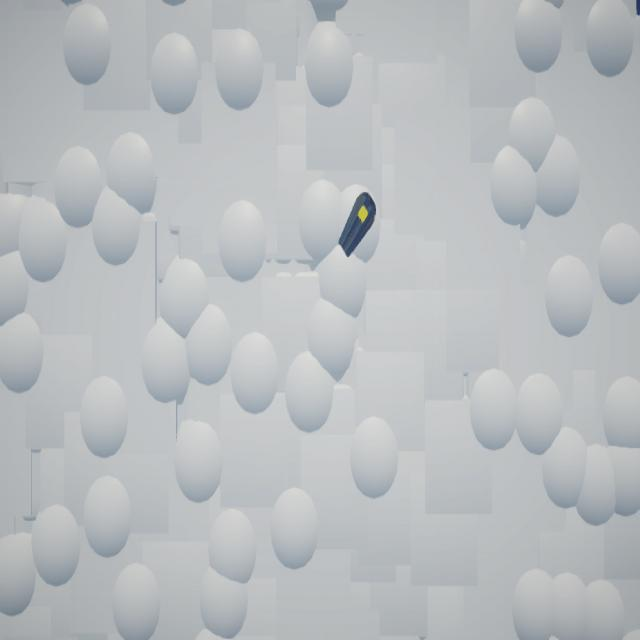handle_folk: (339, 193, 377, 259)
